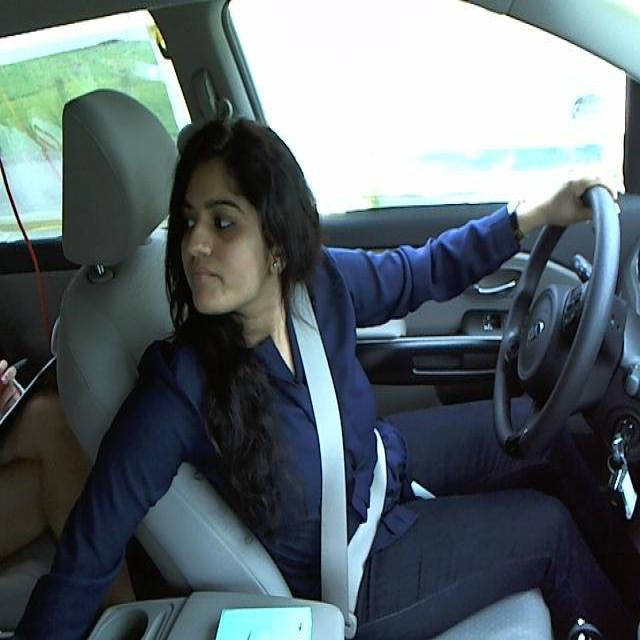seatbelt: (237, 338, 389, 590)
